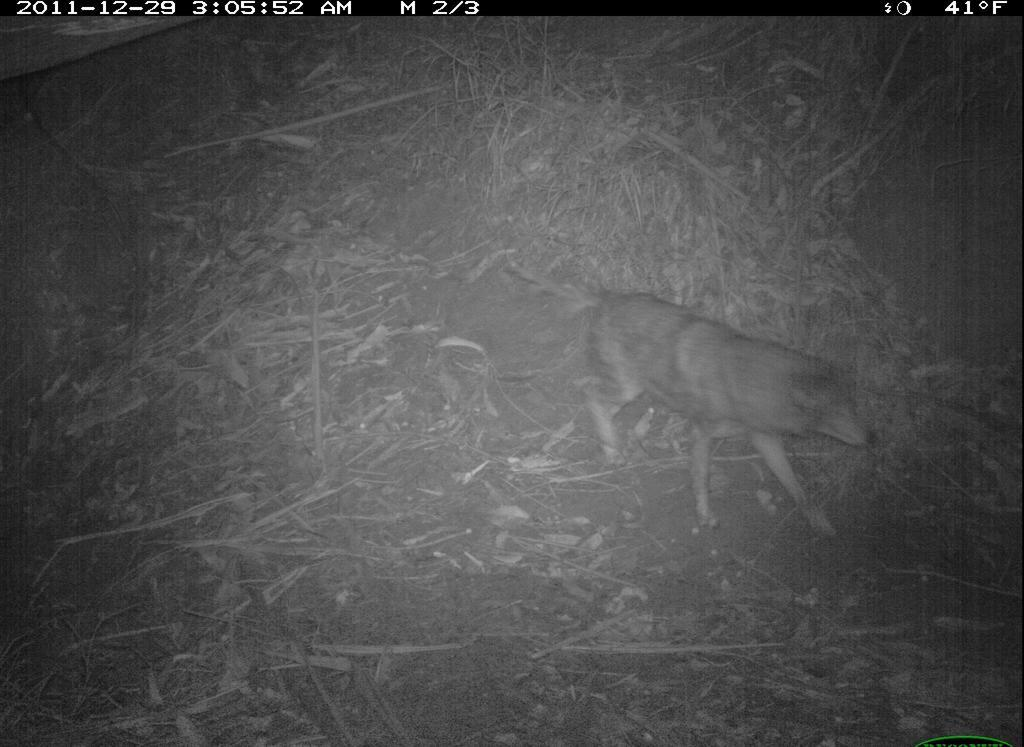coyote: (504, 250, 899, 575)
